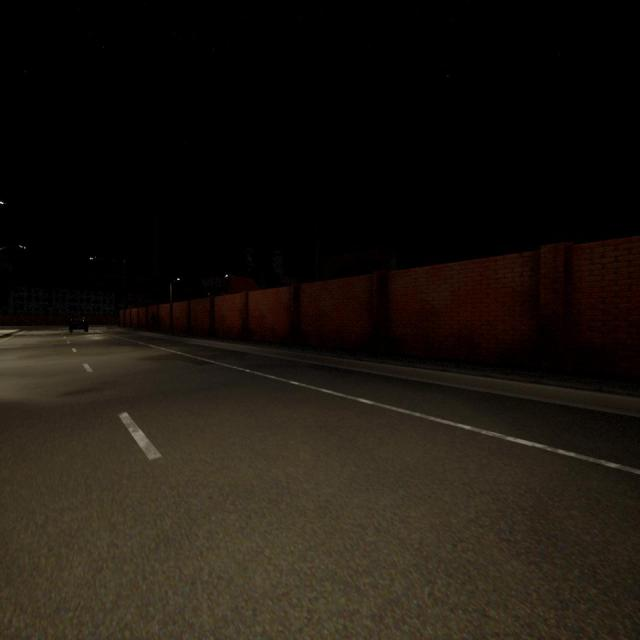Vehicle: (69, 314, 88, 332)
